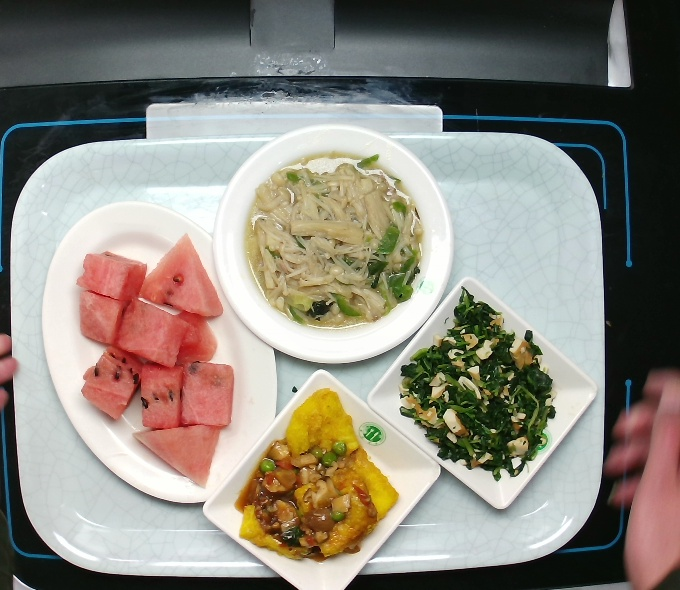wcq-CuiPiDouFu: (235, 386, 402, 568)
wcq-JinZhenGu: (239, 149, 429, 332)
wcq-MaLanTouChaoDouGan: (395, 281, 558, 479)
wcq-XiGua: (72, 231, 240, 493)
